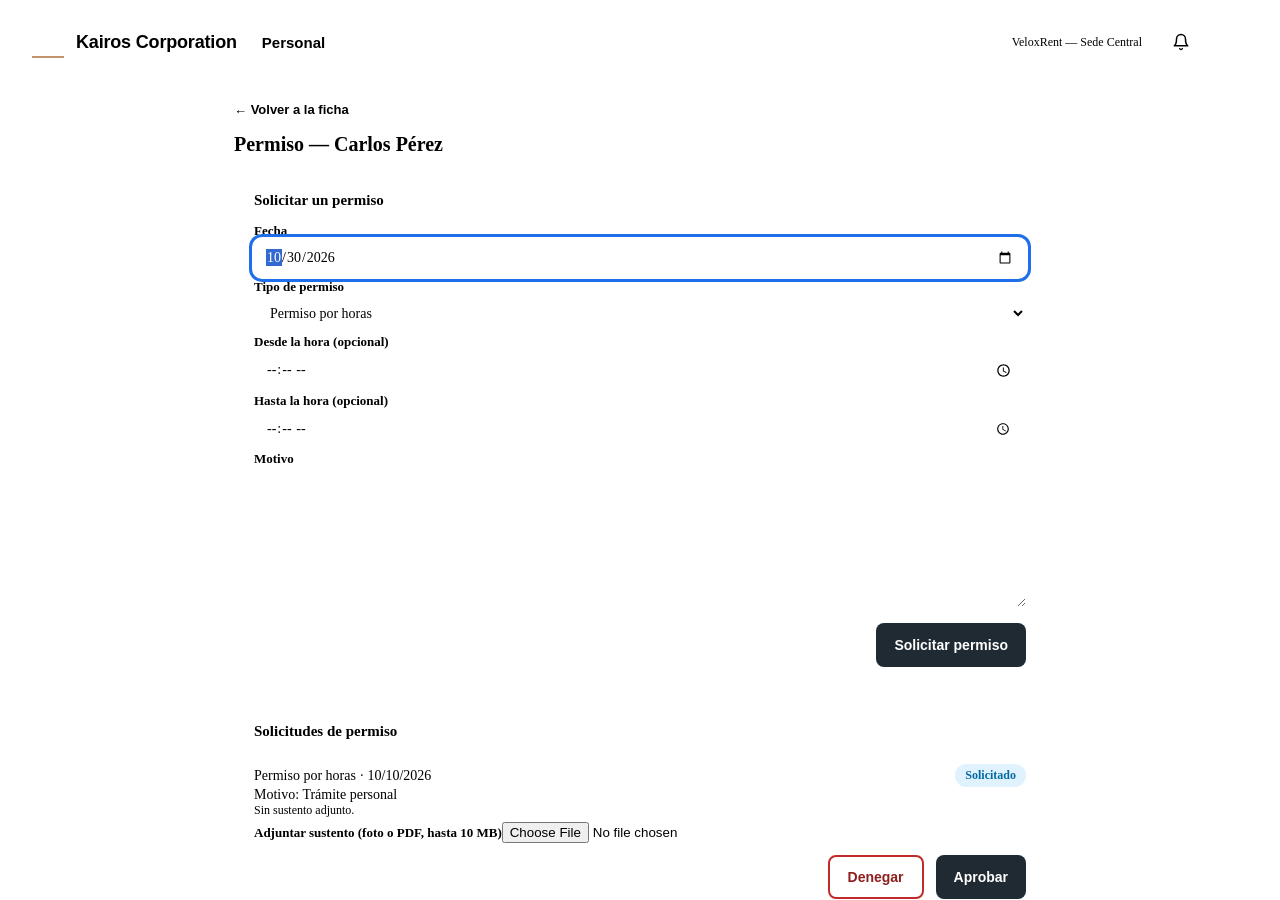
Scenario: LeavesScreen (ADP-04) › muestra el error cuando el permiso ya fue resuelto por otra persona
Click the button with aria-label "Aprobar permiso".
click(981, 877)  # box [936, 855, 1026, 899]
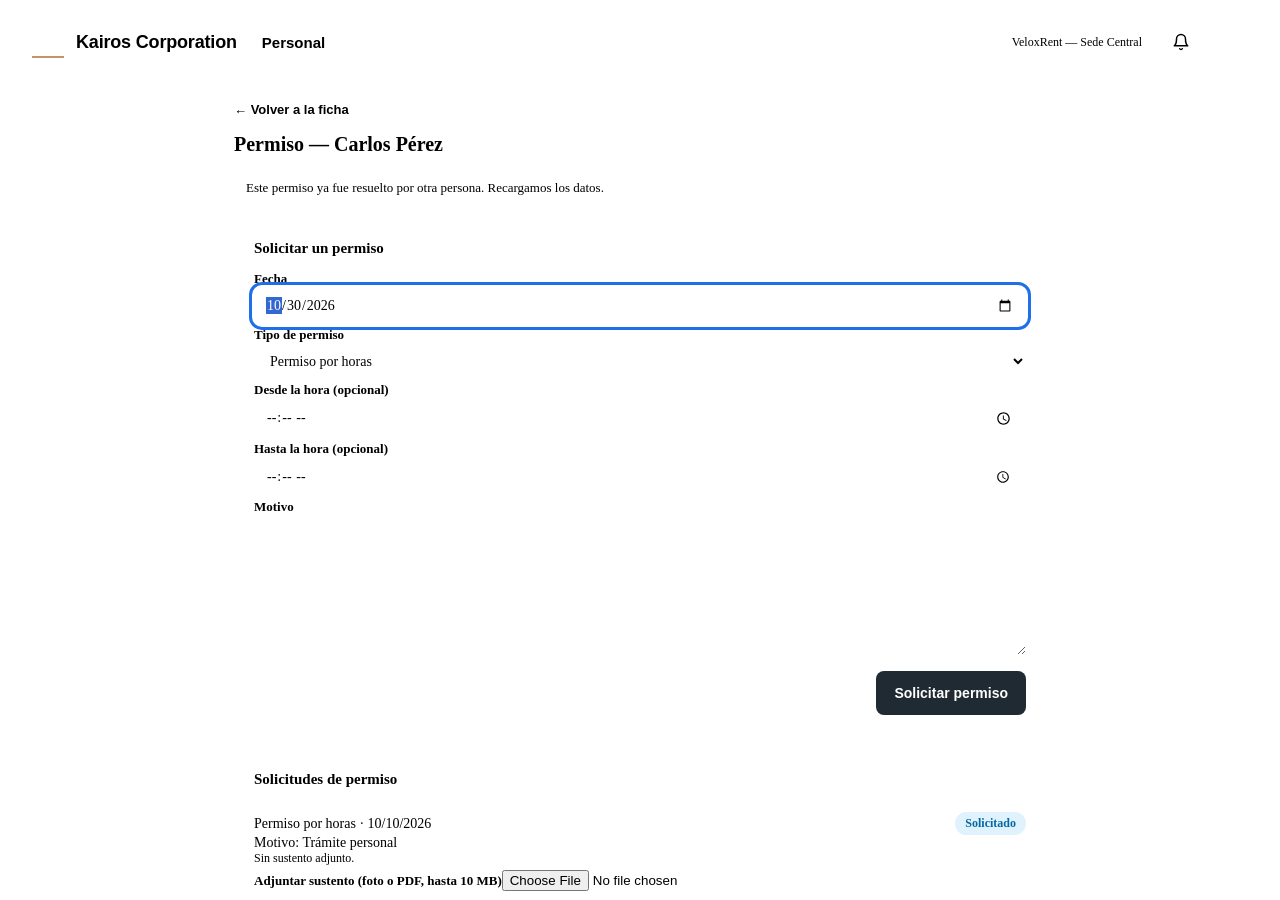
Check: the message shows "ya fue resuelto", box [246, 180, 604, 195]
